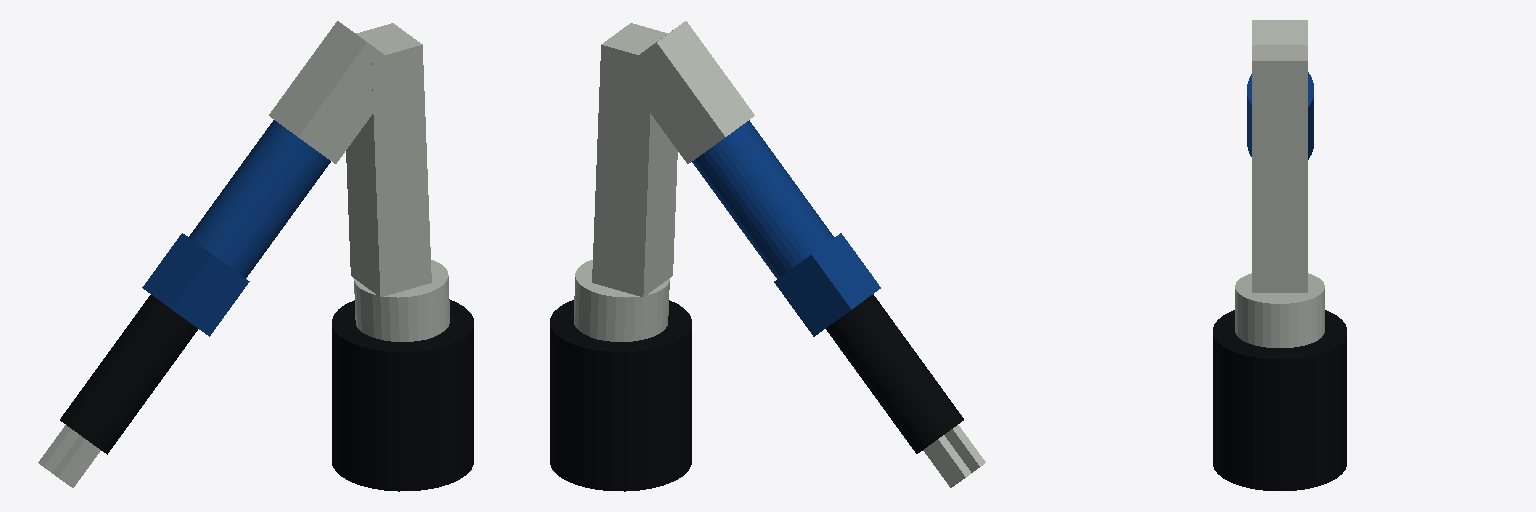
URDF robot description (synria_6dof_arm):
<?xml version="1.0"?>
<!--
  synria_6dof_arm.urdf
  ====================
  Owner-authored approximate description of the Synria Alicia-D 6DOF arm for
  planning and simulation bring-up in this public repository.

  What is real here: the joint names, the parent and child link names, the
  joint origins, axes and position limits, which are the measured kinematic
  parameters of the arm as the Isaac Lab actuator configuration and the
  MoveIt SRDF use them. What is approximate: every link's visual and
  collision body is a primitive (cylinder or box) spanning the segment from
  one joint to the next, with rough masses and diagonal inertias. The
  manufacturer's mesh files are not distributed with this repository, so a
  planning result against this model is a result against a conservative
  primitive collision model, not against the arm's true surfaces.

  Provides: base_link, link1..link6, tool0, left_gripper, right_gripper,
  Joint1..Joint6 (revolute), left_finger and right_finger (prismatic),
  tool0_fixed_joint. The xacro wrapper adds the world frame, the C10 camera
  and the ros2_control block.
-->
<robot name="synria_6dof_arm">

  <material name="synria_dark"><color rgba="0.08 0.09 0.10 1.0"/></material>
  <material name="synria_silver"><color rgba="0.70 0.72 0.69 1.0"/></material>
  <material name="synria_blue"><color rgba="0.10 0.28 0.52 1.0"/></material>

  <!-- base: cylinder up to the first joint, 0.1295 m above the mounting plane -->
  <link name="base_link">
    <visual><origin xyz="0 0 0.0648" rpy="0 0 0"/><geometry><cylinder radius="0.060" length="0.1295"/></geometry><material name="synria_dark"/></visual>
    <collision><origin xyz="0 0 0.0648" rpy="0 0 0"/><geometry><cylinder radius="0.060" length="0.1295"/></geometry></collision>
    <inertial><origin xyz="0 0 0.0648" rpy="0 0 0"/><mass value="1.0"/><inertia ixx="0.004" ixy="0" ixz="0" iyy="0.004" iyz="0" izz="0.002"/></inertial>
  </link>

  <!-- shoulder: short section between Joint1 and Joint2 -->
  <link name="link1">
    <visual><origin xyz="0 0 0.0214" rpy="0 0 0"/><geometry><cylinder radius="0.040" length="0.0428"/></geometry><material name="synria_silver"/></visual>
    <collision><origin xyz="0 0 0.0214" rpy="0 0 0"/><geometry><cylinder radius="0.040" length="0.0428"/></geometry></collision>
    <inertial><origin xyz="0 0 0.0214" rpy="0 0 0"/><mass value="0.40"/><inertia ixx="0.0003" ixy="0" ixz="0" iyy="0.0003" iyz="0" izz="0.0003"/></inertial>
  </link>

  <!-- upper arm: 0.224 m along the link's x axis to Joint3 -->
  <link name="link2">
    <visual><origin xyz="0.1118 0.0113 0" rpy="0 0 0"/><geometry><box size="0.2237 0.050 0.050"/></geometry><material name="synria_silver"/></visual>
    <collision><origin xyz="0.1118 0.0113 0" rpy="0 0 0"/><geometry><box size="0.2237 0.050 0.050"/></geometry></collision>
    <inertial><origin xyz="0.1118 0.0113 0" rpy="0 0 0"/><mass value="0.60"/><inertia ixx="0.0003" ixy="0" ixz="0" iyy="0.0026" iyz="0" izz="0.0026"/></inertial>
  </link>

  <!-- elbow: 0.099 m along the link's negative y axis to Joint4 -->
  <link name="link3">
    <visual><origin xyz="0.0011 -0.0495 0" rpy="0 0 0"/><geometry><box size="0.050 0.0990 0.050"/></geometry><material name="synria_silver"/></visual>
    <collision><origin xyz="0.0011 -0.0495 0" rpy="0 0 0"/><geometry><box size="0.050 0.0990 0.050"/></geometry></collision>
    <inertial><origin xyz="0.0011 -0.0495 0" rpy="0 0 0"/><mass value="0.35"/><inertia ixx="0.0004" ixy="0" ixz="0" iyy="0.0002" iyz="0" izz="0.0004"/></inertial>
  </link>

  <!-- forearm: 0.122 m along the link's z axis to Joint5 -->
  <link name="link4">
    <visual><origin xyz="0 -0.0003 0.0612" rpy="0 0 0"/><geometry><cylinder radius="0.030" length="0.1224"/></geometry><material name="synria_blue"/></visual>
    <collision><origin xyz="0 -0.0003 0.0612" rpy="0 0 0"/><geometry><cylinder radius="0.030" length="0.1224"/></geometry></collision>
    <inertial><origin xyz="0 -0.0003 0.0612" rpy="0 0 0"/><mass value="0.30"/><inertia ixx="0.0004" ixy="0" ixz="0" iyy="0.0004" iyz="0" izz="0.0001"/></inertial>
  </link>

  <!-- wrist: 0.0575 m along the link's y axis to Joint6 -->
  <link name="link5">
    <visual><origin xyz="-0.0019 0.0288 -0.0005" rpy="0 0 0"/><geometry><box size="0.050 0.0575 0.050"/></geometry><material name="synria_blue"/></visual>
    <collision><origin xyz="-0.0019 0.0288 -0.0005" rpy="0 0 0"/><geometry><box size="0.050 0.0575 0.050"/></geometry></collision>
    <inertial><origin xyz="-0.0019 0.0288 -0.0005" rpy="0 0 0"/><mass value="0.20"/><inertia ixx="0.0001" ixy="0" ixz="0" iyy="0.0001" iyz="0" izz="0.0001"/></inertial>
  </link>

  <!-- wrist roll and gripper body: 0.131 m along the link's z axis to the finger plane -->
  <link name="link6">
    <visual><origin xyz="0.0001 0 0.0655" rpy="0 0 0"/><geometry><cylinder radius="0.025" length="0.1310"/></geometry><material name="synria_dark"/></visual>
    <collision><origin xyz="0.0001 0 0.0655" rpy="0 0 0"/><geometry><cylinder radius="0.025" length="0.1310"/></geometry></collision>
    <inertial><origin xyz="0.0001 0 0.0655" rpy="0 0 0"/><mass value="0.25"/><inertia ixx="0.0004" ixy="0" ixz="0" iyy="0.0004" iyz="0" izz="0.0001"/></inertial>
  </link>

  <!-- end-effector frame at the finger plane -->
  <link name="tool0">
    <inertial><origin xyz="0 0 0" rpy="0 0 0"/><mass value="0.01"/><inertia ixx="0.00001" ixy="0" ixz="0" iyy="0.00001" iyz="0" izz="0.00001"/></inertial>
  </link>

  <link name="left_gripper">
    <visual><origin xyz="0 0.012 0.020" rpy="0 0 0"/><geometry><box size="0.020 0.010 0.040"/></geometry><material name="synria_silver"/></visual>
    <collision><origin xyz="0 0.012 0.020" rpy="0 0 0"/><geometry><box size="0.020 0.010 0.040"/></geometry></collision>
    <inertial><origin xyz="0 0.012 0.020" rpy="0 0 0"/><mass value="0.03"/><inertia ixx="0.00001" ixy="0" ixz="0" iyy="0.00001" iyz="0" izz="0.00001"/></inertial>
  </link>
  <link name="right_gripper">
    <visual><origin xyz="0 -0.012 0.020" rpy="0 0 0"/><geometry><box size="0.020 0.010 0.040"/></geometry><material name="synria_silver"/></visual>
    <collision><origin xyz="0 -0.012 0.020" rpy="0 0 0"/><geometry><box size="0.020 0.010 0.040"/></geometry></collision>
    <inertial><origin xyz="0 -0.012 0.020" rpy="0 0 0"/><mass value="0.03"/><inertia ixx="0.00001" ixy="0" ixz="0" iyy="0.00001" iyz="0" izz="0.00001"/></inertial>
  </link>

  <!-- arm joints: origins, axes and limits are the arm's kinematic parameters -->
  <joint name="Joint1" type="revolute">
    <parent link="base_link"/><child link="link1"/>
    <origin xyz="0 0 0.1295" rpy="0 -0.0398 0"/>
    <axis xyz="-0.0398 0 0.9992"/>
    <limit lower="-2.749" upper="2.749" effort="5" velocity="12"/>
  </joint>
  <joint name="Joint2" type="revolute">
    <parent link="link1"/><child link="link2"/>
    <origin xyz="0.0017 0 0.0428" rpy="1.5708 -1.5708 0"/>
    <axis xyz="0 0 -1"/>
    <limit lower="-1.57" upper="1.57" effort="5" velocity="12"/>
  </joint>
  <joint name="Joint3" type="revolute">
    <parent link="link2"/><child link="link3"/>
    <origin xyz="0.2237 0.0227 -0.0001" rpy="0 0 -2.3562"/>
    <axis xyz="0 0 -1"/>
    <limit lower="-0.78" upper="3.14159" effort="5" velocity="12"/>
  </joint>
  <joint name="Joint4" type="revolute">
    <parent link="link3"/><child link="link4"/>
    <origin xyz="0.0021 -0.0990 -0.0002" rpy="1.5708 0 0"/>
    <axis xyz="0 0 -1"/>
    <limit lower="-2.7925" upper="2.7925" effort="5" velocity="12"/>
  </joint>
  <joint name="Joint5" type="revolute">
    <parent link="link4"/><child link="link5"/>
    <origin xyz="0 -0.0005 0.12235" rpy="1.5708 0 0"/>
    <axis xyz="0 0 1"/>
    <limit lower="-1.57" upper="1.57" effort="5" velocity="12"/>
  </joint>
  <joint name="Joint6" type="revolute">
    <parent link="link5"/><child link="link6"/>
    <origin xyz="-0.0039 0.0575 -0.0010" rpy="-1.5708 0 0"/>
    <axis xyz="0 0 -1"/>
    <limit lower="-3.14" upper="3.14" effort="5" velocity="12"/>
  </joint>

  <joint name="tool0_fixed_joint" type="fixed">
    <parent link="link6"/><child link="tool0"/>
    <origin xyz="0.0002 0 0.13098" rpy="0 0 0"/>
  </joint>
  <joint name="left_finger" type="prismatic">
    <parent link="link6"/><child link="left_gripper"/>
    <origin xyz="0.0002 0 0.13098" rpy="0 0 0"/>
    <axis xyz="0 1 0"/>
    <limit lower="0" upper="0.025" effort="5" velocity="0.1"/>
  </joint>
  <joint name="right_finger" type="prismatic">
    <parent link="link6"/><child link="right_gripper"/>
    <origin xyz="0.0002 0 0.13098" rpy="0 0 0"/>
    <axis xyz="0 1 0"/>
    <limit lower="-0.025" upper="0" effort="5" velocity="0.1"/>
  </joint>
</robot>

--- Facts derived from the render (not from the file) ---
The picture shows the robot from 3 angles, left to right: view 1: azimuth 30°, elevation 25°; view 2: azimuth 150°, elevation 25°; view 3: azimuth 270°, elevation 25°; orthographic projection.
Model synria_6dof_arm with 10 links and 9 joints (6 revolute, 2 prismatic, 1 fixed), rooted at base_link, posed every joint at zero.
Links seen in each view (by area): view 1: base_link, link2, link4, link6, link3, link5, link1, left_gripper, right_gripper; view 2: base_link, link2, link4, link3, link6, link5, link1, right_gripper, left_gripper; view 3: base_link, link2, link1, link3, link4.
Boxes of the visible links, box(x1,y1,x2,y2) form: base_link: box(332, 299, 473, 491); link2: box(346, 23, 431, 297); link4: box(189, 120, 330, 278); link6: box(60, 295, 197, 454); link3: box(269, 21, 384, 163); link5: box(142, 233, 249, 336); link1: box(354, 260, 449, 341); left_gripper: box(52, 435, 100, 487); right_gripper: box(38, 425, 79, 472); base_link: box(550, 300, 691, 491); link2: box(592, 23, 677, 297); link4: box(692, 120, 834, 278); link3: box(619, 21, 754, 163); link6: box(826, 294, 963, 453); link5: box(774, 233, 880, 336); link1: box(574, 260, 669, 341); right_gripper: box(923, 435, 971, 487); left_gripper: box(945, 425, 985, 472); base_link: box(1213, 310, 1346, 490); link2: box(1252, 45, 1307, 292); link1: box(1235, 273, 1324, 347); link3: box(1252, 20, 1307, 44); link4: box(1247, 72, 1313, 159).
Size in the robot's own frame: 0.4053 by 0.12 by 0.4111 metres.
Geometry: primitives only (box / cylinder / sphere), no mesh files.
